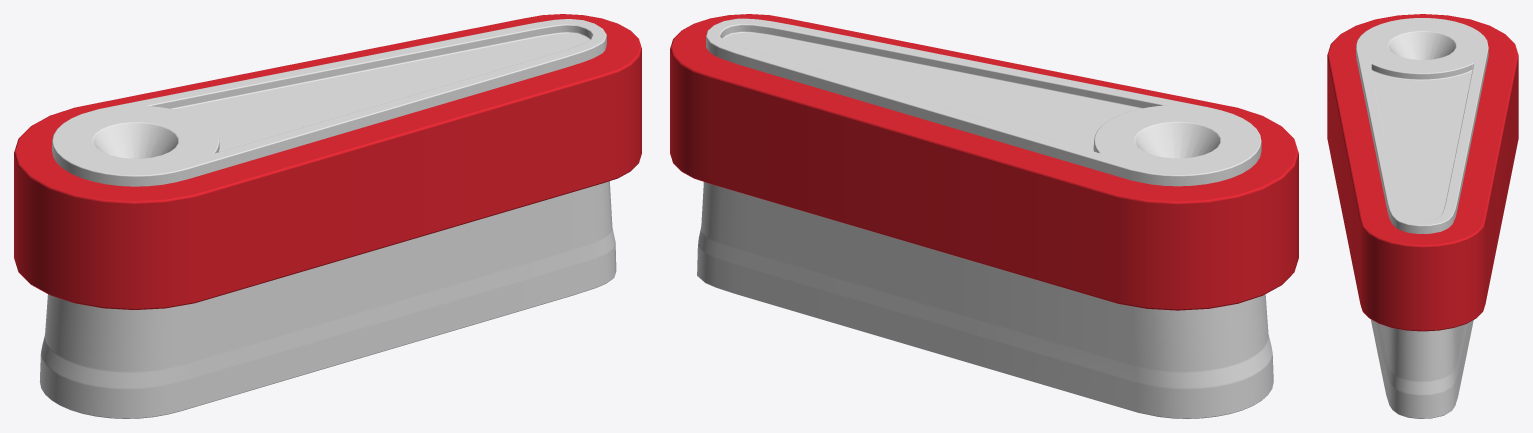
File: Flipper, Generic, Variant 3 (2.25in) - Hipoly.fbx
3 views of the same model, side by side, from view 1: azimuth 30°, elevation 25°; view 2: azimuth 150°, elevation 25°; view 3: azimuth 270°, elevation 25° (orthographic). The views are drawn at different scales.
Parts seen in each view (by area): view 1: Flipper, Generic, Variant 3 (2-1/4"); view 2: Flipper, Generic, Variant 3 (2-1/4"); view 3: Flipper, Generic, Variant 3 (2-1/4").
Boxes of the visible parts, x1,y1,x2,y2 form: Flipper, Generic, Variant 3 (2-1/4"): (14,14,641,418); Flipper, Generic, Variant 3 (2-1/4"): (670,14,1298,418); Flipper, Generic, Variant 3 (2-1/4"): (1327,14,1518,418).
Bounding box in the file's own units: 6.25 × 2.38 × 2.18.
